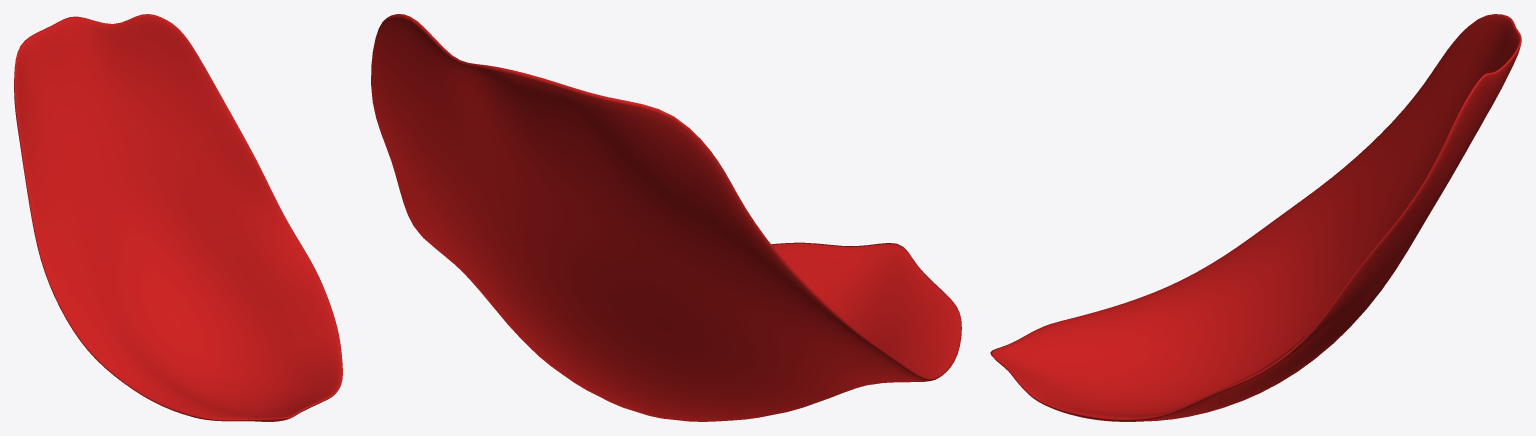
The model's file is Petal1.glb.
The picture shows the model from 3 angles, left to right: view 1: azimuth 30°, elevation 25°; view 2: azimuth 150°, elevation 25°; view 3: azimuth 270°, elevation 25°; orthographic projection. The views are drawn at different scales.
Parts seen in each view (by area): view 1: petal; view 2: petal; view 3: petal.
Part boxes in pixels (x1,y1,x2,y2): petal: [14, 14, 342, 421]; petal: [371, 14, 961, 421]; petal: [990, 14, 1521, 421].
Size of the model in its own units: 1.33 by 1.46 by 2.
